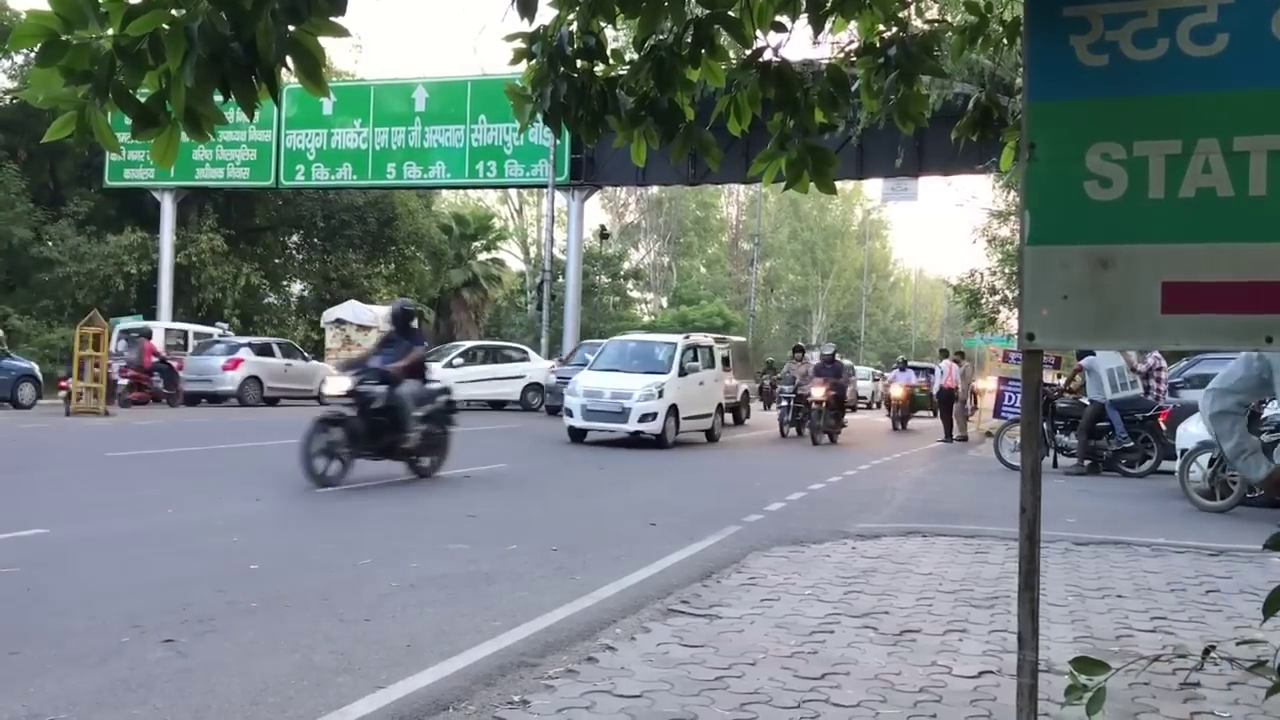Car: (560, 327, 727, 459), (394, 334, 553, 427), (174, 331, 326, 418)
License_Plate: (579, 393, 625, 414)
MotorCycle: (297, 361, 471, 495), (987, 380, 1168, 488), (810, 365, 852, 463), (117, 359, 189, 412), (773, 367, 820, 446)
